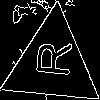R: (27, 38, 72, 79)
